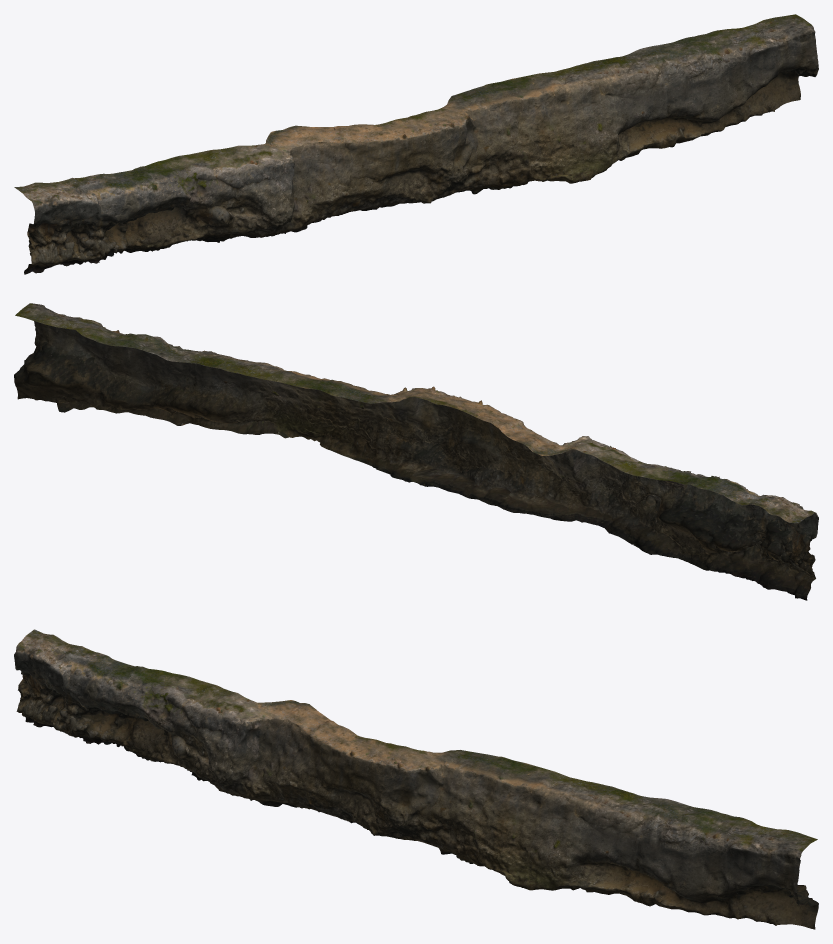
The model's file is ravine-cliff.glb.
3 renders of one model, top to bottom at view 1: azimuth 30°, elevation 25°; view 2: azimuth 150°, elevation 25°; view 3: azimuth 330°, elevation 25°, orthographic. The views are drawn at different scales.
Visible parts, largest first — view 1: CC0_Coastal_Cliff; view 2: CC0_Coastal_Cliff; view 3: CC0_Coastal_Cliff.
Part boxes in pixels (<box>): CC0_Coastal_Cliff: <box>14,14,818,274</box>; CC0_Coastal_Cliff: <box>14,303,818,600</box>; CC0_Coastal_Cliff: <box>14,629,818,929</box>.
Bounding box in the file's own units: 91.98 × 10.29 × 10.95.
Materials: 1 (1 with a texture image).
